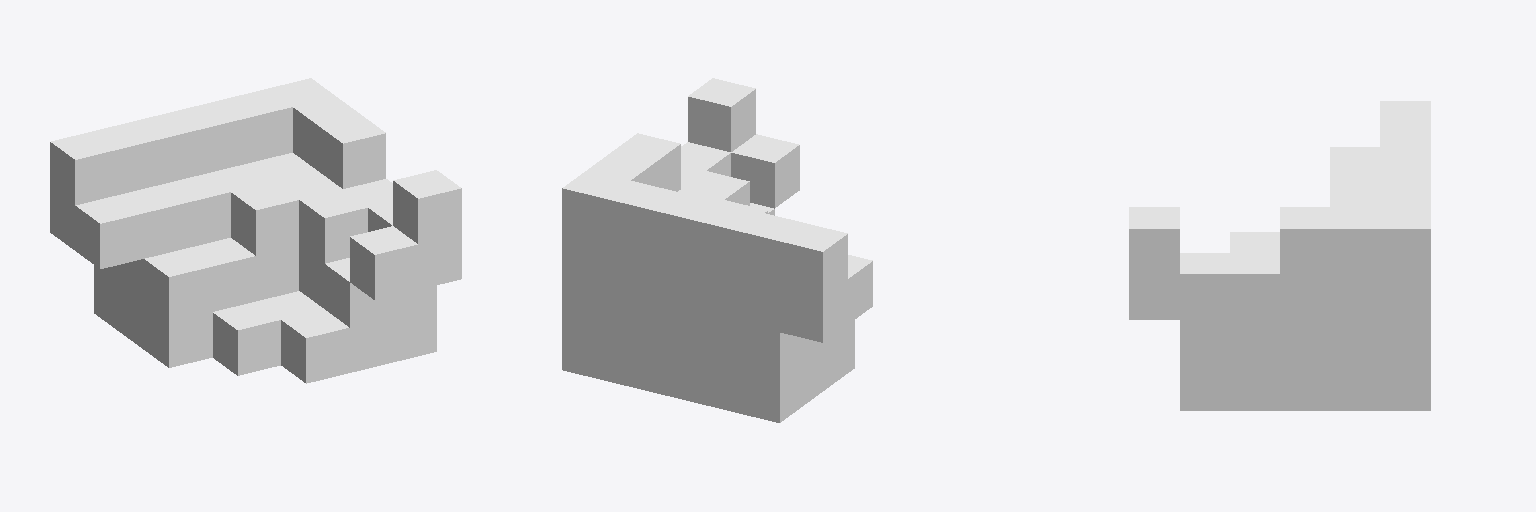
The model's file is cristais-10.obj.
3 views of the same model, side by side, from view 1: azimuth 30°, elevation 25°; view 2: azimuth 150°, elevation 25°; view 3: azimuth 270°, elevation 25° (orthographic).
Parts seen in each view (by area): view 1: object 1; view 2: object 1; view 3: object 1.
Boxes of the visible parts, x1,y1,x2,y2 form: object 1: [50, 78, 461, 383]; object 1: [562, 78, 872, 422]; object 1: [1129, 101, 1430, 410].
Size of the model in its own units: 0.6 by 0.4 by 0.6.